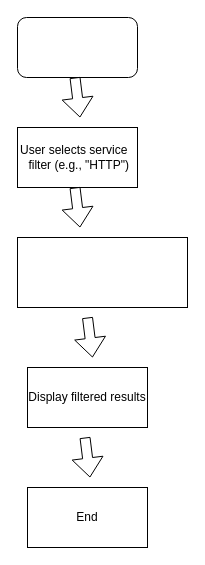
Some shapes in this 205 by 565 pixel diagram are drawn without their labels. The shapes that lost their labels are listed below. From the top down, each one's box as (x1, y1, x2, y2) in pixels, then its label:
(16, 16, 138, 78): Start
(16, 236, 188, 308): Run list comprehension [r for r in scan_results if r.service == filter
